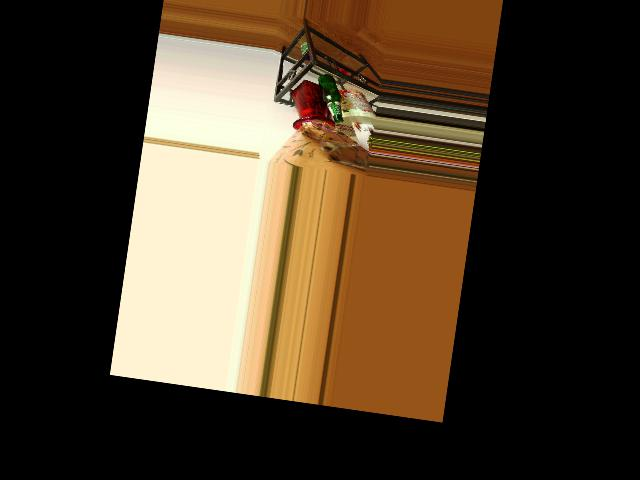beer: (312, 73, 349, 123)
